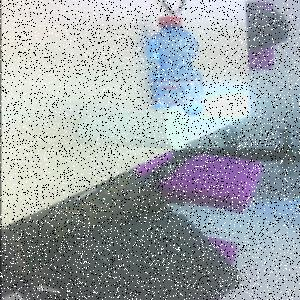Cup: (76, 105, 192, 152)
Plastic-bottle: (149, 16, 205, 118)
